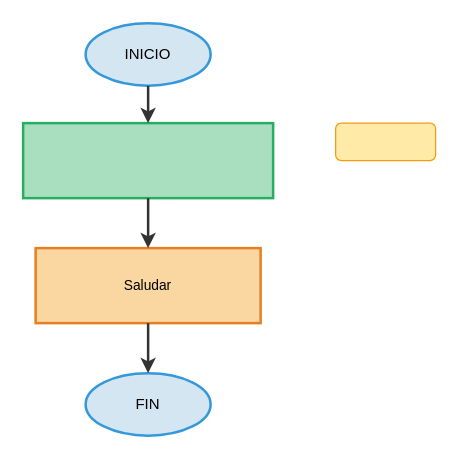
Some shapes in this 458 by 458 pixel diagram are drawn without their labels. The box of each missing label's shape, as (x1, y1, x2, y2) in pixels:
Leer nombre: (21, 121, 274, 199)
O(1): (334, 122, 436, 161)
